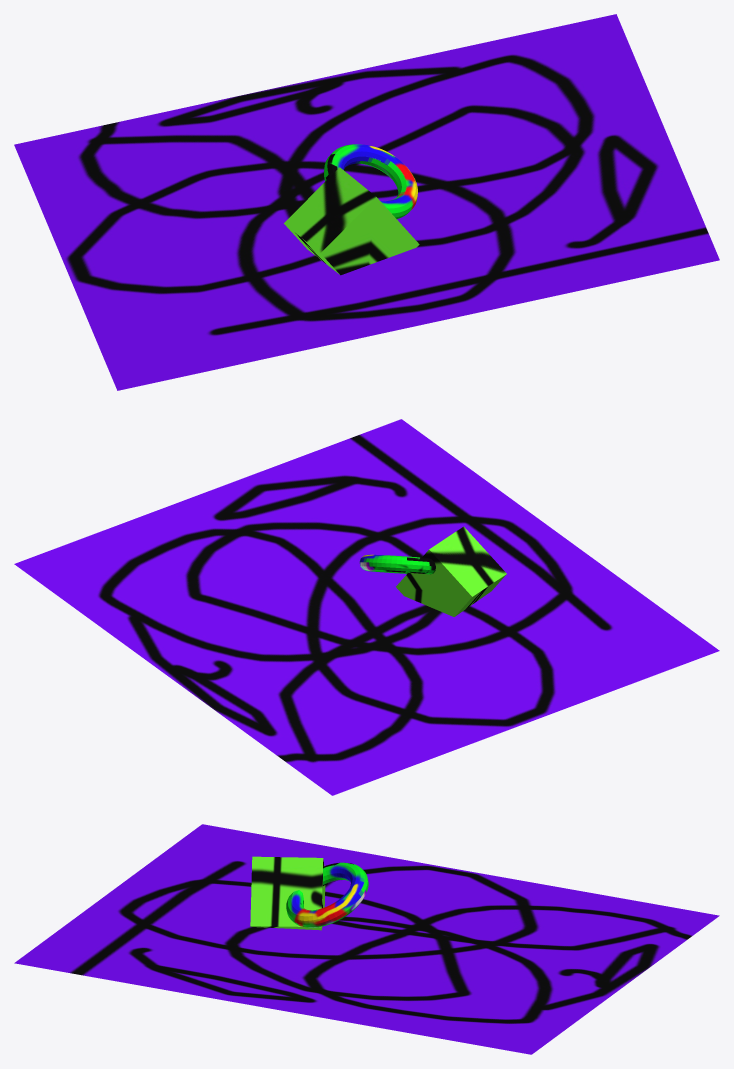
The model's file is myscene.gltf.
3 renders of one model, top to bottom at view 1: azimuth 30°, elevation 25°; view 2: azimuth 150°, elevation 25°; view 3: azimuth 270°, elevation 25°, orthographic. The views are drawn at different scales.
Visible parts, largest first — view 1: Plane, Cube, Torus.001; view 2: Plane, Cube, Torus.001; view 3: Plane, Cube, Torus.001.
Boxes of the visible parts, x1,y1,x2,y2 form: Plane: [14, 14, 719, 390]; Cube: [284, 167, 419, 275]; Torus.001: [324, 144, 417, 218]; Plane: [14, 419, 719, 795]; Cube: [396, 526, 506, 616]; Torus.001: [359, 554, 435, 574]; Plane: [14, 824, 719, 1054]; Cube: [250, 856, 325, 930]; Torus.001: [286, 862, 368, 927].
Bounding box in the file's own units: 19.83 × 3.19 × 19.87.
Materials: 3 (3 with a texture image).
